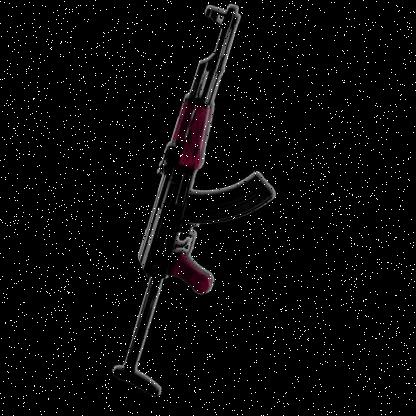rifle: (64, 0, 330, 412)
